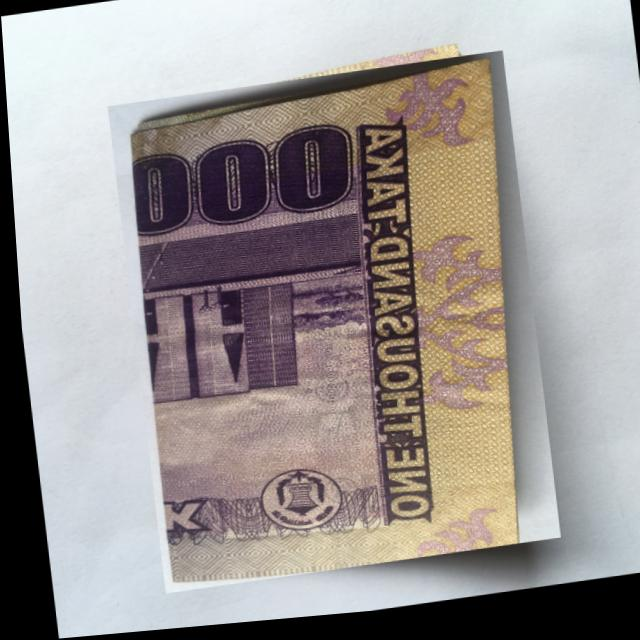Taka: (105, 58, 554, 598)
